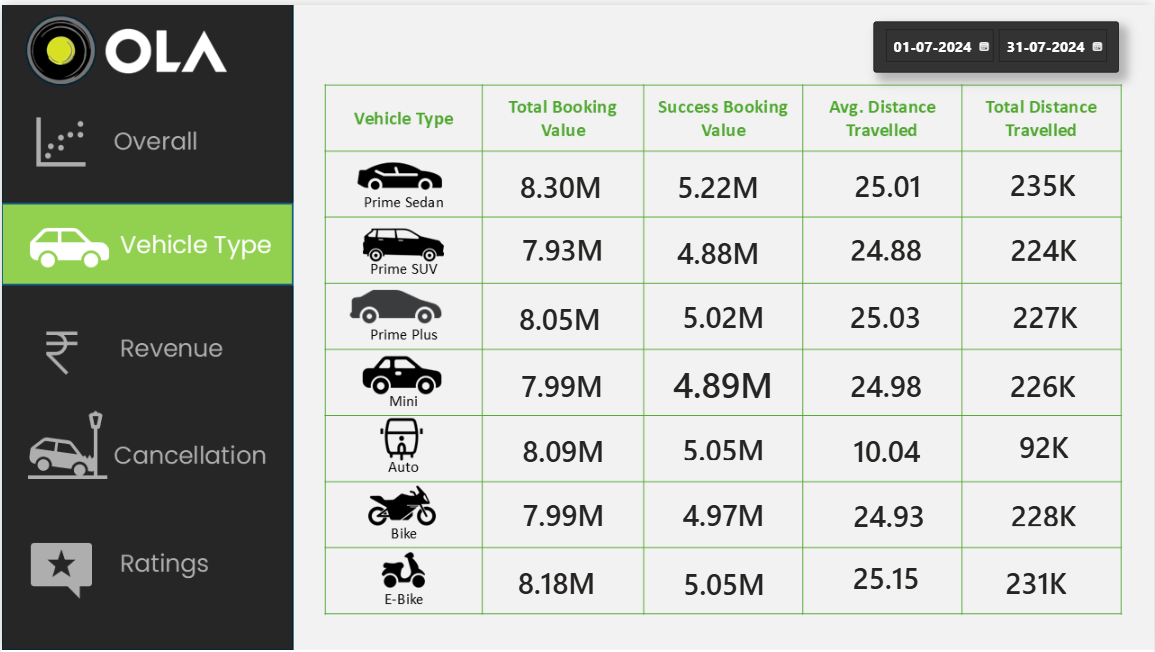

The dashboard page shown, as its layout file describes it:
{"tool":"powerbi","page":{"name":"Vehicle Type","canvas":[1280,720],"ordinal":1},"visuals":[{"type":"actionButton","box":[0,341.8,322.9,91.4],"z":0},{"type":"actionButton","box":[0,448.9,322.9,91.4],"z":1000},{"type":"actionButton","box":[0,582.8,322.9,91.4],"z":2000},{"type":"actionButton","box":[0,110.3,322.9,91.4],"z":3000},{"type":"cardVisual","fields":{"Data":["Sum(ola bookings.Booking_Value)"]},"box":[541.7,166.7,158.3,66.7],"z":4000},{"type":"cardVisual","fields":{"Data":["Sum(ola bookings.Booking_Value)"]},"box":[540,240,166.7,61.7],"z":5000},{"type":"cardVisual","fields":{"Data":["Sum(ola bookings.Booking_Value)"]},"box":[548.3,460,150,66.7],"z":6000},{"type":"cardVisual","fields":{"Data":["Sum(ola bookings.Booking_Value)"]},"box":[546.7,390,151.7,63.3],"z":7000},{"type":"cardVisual","fields":{"Data":["Sum(ola bookings.Booking_Value)"]},"box":[541.7,313.3,156.7,66.7],"z":8000},{"type":"cardVisual","fields":{"Data":["Sum(ola bookings.Booking_Value)"]},"box":[548.3,528.3,151.7,71.7],"z":9000},{"type":"cardVisual","fields":{"Data":["Sum(ola bookings.Booking_Value)"]},"box":[533.3,606.7,165,66.7],"z":10000},{"type":"cardVisual","fields":{"Data":["Sum(ola bookings.Booking_Value)"]},"box":[720,165,151.7,70],"z":11000},{"type":"cardVisual","fields":{"Data":["Sum(ola bookings.Booking_Value)"]},"box":[720,240,151.7,66.7],"z":12000},{"type":"cardVisual","fields":{"Data":["Sum(ola bookings.Booking_Value)"]},"box":[720,311.7,163.3,66.7],"z":13000},{"type":"cardVisual","fields":{"Data":["Sum(ola bookings.Booking_Value)"]},"box":[713.3,385,175,70],"z":14000},{"type":"cardVisual","fields":{"Data":["Sum(ola bookings.Booking_Value)"]},"box":[720,461.7,163.3,61.7],"z":15000},{"type":"cardVisual","fields":{"Data":["Sum(ola bookings.Booking_Value)"]},"box":[720,531.7,163.3,65],"z":16000},{"type":"cardVisual","fields":{"Data":["Sum(ola bookings.Booking_Value)"]},"box":[721.7,608.3,161.7,66.7],"z":17000},{"type":"cardVisual","fields":{"Data":["Avg(ola bookings.Ride_Distance)"]},"box":[911.7,165,145,68.3],"z":18000},{"type":"cardVisual","fields":{"Data":["Avg(ola bookings.Ride_Distance)"]},"box":[911.7,240,141.7,61.7],"z":19000},{"type":"cardVisual","fields":{"Data":["Avg(ola bookings.Ride_Distance)"]},"box":[911.7,311.7,140,65],"z":20000},{"type":"cardVisual","fields":{"Data":["Avg(ola bookings.Ride_Distance)"]},"box":[911.7,388.3,141.7,65],"z":21000},{"type":"cardVisual","fields":{"Data":["Avg(ola bookings.Ride_Distance)"]},"box":[911.7,460,143.3,66.7],"z":22000},{"type":"cardVisual","fields":{"Data":["Avg(ola bookings.Ride_Distance)"]},"box":[915,531.7,141.7,68.3],"z":23000},{"type":"cardVisual","fields":{"Data":["Avg(ola bookings.Ride_Distance)"]},"box":[913.3,601.7,138.3,66.7],"z":24000},{"type":"cardVisual","fields":{"Data":["Sum(ola bookings.Ride_Distance)"]},"box":[1080,165,153.3,66.7],"z":25000},{"type":"cardVisual","fields":{"Data":["Sum(ola bookings.Ride_Distance)"]},"box":[1088.3,238.3,138.3,63.3],"z":26000},{"type":"cardVisual","fields":{"Data":["Sum(ola bookings.Ride_Distance)"]},"box":[1088.3,308.3,141.7,71.7],"z":27000},{"type":"cardVisual","fields":{"Data":["Sum(ola bookings.Ride_Distance)"]},"box":[1090,388.3,133.3,66.7],"z":28000},{"type":"cardVisual","fields":{"Data":["Sum(ola bookings.Ride_Distance)"]},"box":[1095,455,125,68.3],"z":29000},{"type":"cardVisual","fields":{"Data":["Sum(ola bookings.Ride_Distance)"]},"box":[1083.3,535,148.3,61.7],"z":30000},{"type":"cardVisual","fields":{"Data":["Sum(ola bookings.Ride_Distance)"]},"box":[1080,606.7,138.3,66.7],"z":31000},{"type":"slicer","title":"Date","fields":{"Values":["ola bookings.Date"]},"box":[968.7,18.9,272.5,56.7],"z":32000}]}

Visuals, with their boxes in screenshot pixels (x1, y1, x2, y2), scaled from the page's 1280x720 canvas onto the 1155x652 screenshot:
actionButton: <bbox>0, 310, 291, 392</bbox>
actionButton: <bbox>0, 407, 291, 489</bbox>
actionButton: <bbox>0, 528, 291, 611</bbox>
actionButton: <bbox>0, 100, 291, 183</bbox>
cardVisual - Sum(ola bookings.Booking_Value): <bbox>489, 151, 632, 211</bbox>
cardVisual - Sum(ola bookings.Booking_Value): <bbox>487, 217, 638, 273</bbox>
cardVisual - Sum(ola bookings.Booking_Value): <bbox>495, 417, 630, 477</bbox>
cardVisual - Sum(ola bookings.Booking_Value): <bbox>493, 353, 630, 410</bbox>
cardVisual - Sum(ola bookings.Booking_Value): <bbox>489, 284, 630, 344</bbox>
cardVisual - Sum(ola bookings.Booking_Value): <bbox>495, 478, 632, 543</bbox>
cardVisual - Sum(ola bookings.Booking_Value): <bbox>481, 549, 630, 610</bbox>
cardVisual - Sum(ola bookings.Booking_Value): <bbox>650, 149, 787, 213</bbox>
cardVisual - Sum(ola bookings.Booking_Value): <bbox>650, 217, 787, 278</bbox>
cardVisual - Sum(ola bookings.Booking_Value): <bbox>650, 282, 797, 343</bbox>
cardVisual - Sum(ola bookings.Booking_Value): <bbox>644, 349, 802, 412</bbox>
cardVisual - Sum(ola bookings.Booking_Value): <bbox>650, 418, 797, 474</bbox>
cardVisual - Sum(ola bookings.Booking_Value): <bbox>650, 481, 797, 540</bbox>
cardVisual - Sum(ola bookings.Booking_Value): <bbox>651, 551, 797, 611</bbox>
cardVisual - Avg(ola bookings.Ride_Distance): <bbox>823, 149, 954, 211</bbox>
cardVisual - Avg(ola bookings.Ride_Distance): <bbox>823, 217, 951, 273</bbox>
cardVisual - Avg(ola bookings.Ride_Distance): <bbox>823, 282, 949, 341</bbox>
cardVisual - Avg(ola bookings.Ride_Distance): <bbox>823, 352, 951, 410</bbox>
cardVisual - Avg(ola bookings.Ride_Distance): <bbox>823, 417, 952, 477</bbox>
cardVisual - Avg(ola bookings.Ride_Distance): <bbox>826, 481, 954, 543</bbox>
cardVisual - Avg(ola bookings.Ride_Distance): <bbox>824, 545, 949, 605</bbox>
cardVisual - Sum(ola bookings.Ride_Distance): <bbox>975, 149, 1113, 210</bbox>
cardVisual - Sum(ola bookings.Ride_Distance): <bbox>982, 216, 1107, 273</bbox>
cardVisual - Sum(ola bookings.Ride_Distance): <bbox>982, 279, 1110, 344</bbox>
cardVisual - Sum(ola bookings.Ride_Distance): <bbox>984, 352, 1104, 412</bbox>
cardVisual - Sum(ola bookings.Ride_Distance): <bbox>988, 412, 1101, 474</bbox>
cardVisual - Sum(ola bookings.Ride_Distance): <bbox>978, 484, 1111, 540</bbox>
cardVisual - Sum(ola bookings.Ride_Distance): <bbox>975, 549, 1099, 610</bbox>
"Date" slicer: <bbox>874, 17, 1120, 68</bbox>
